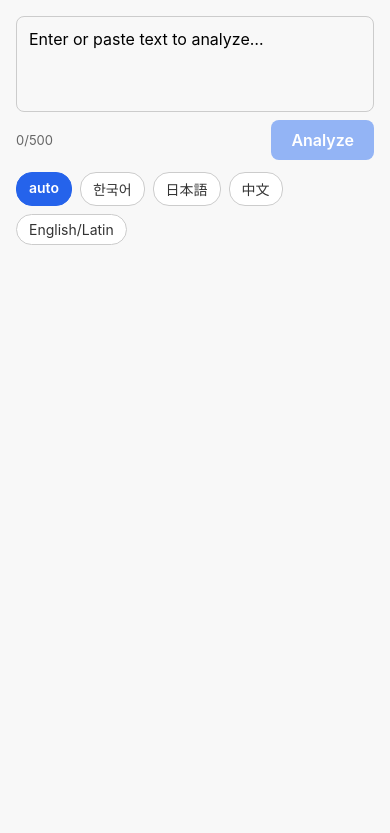
Test: HomeScreen submit flow › replaces the previous result on resubmit (US1-AS4)
The image size is (390, 833).
Expected: the button "Analyze" is shown, x1=271 y1=120 x2=374 y2=160
Type "오늘 날씨가 정말 좋네요" into the text box labelled "text to analyze" at [195, 64], box x1=16 y1=16 x2=374 y2=112
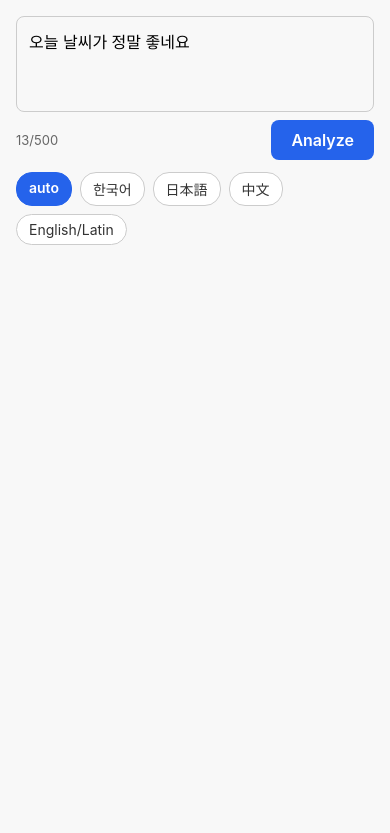
Click the button "Analyze" at [323, 140], box x1=271 y1=120 x2=374 y2=160
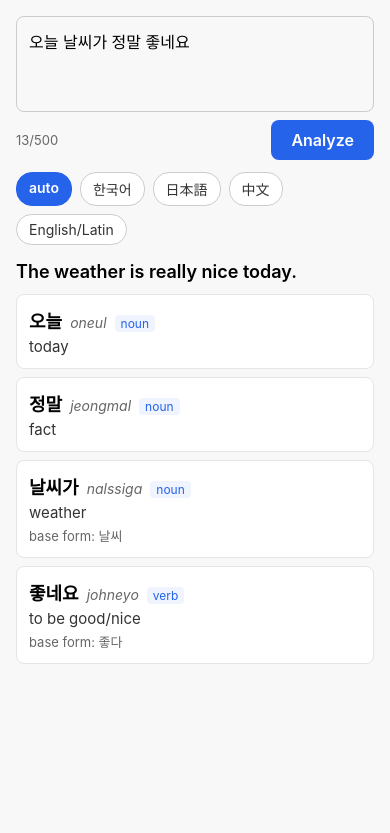
Expected: the heading "The weather is really nice today." is shown, x1=16 y1=261 x2=297 y2=282
Replace the text in the text box named "text to analyze" with "私は毎朝コーヒーを飲みます" at [195, 64], box x1=16 y1=16 x2=374 y2=112
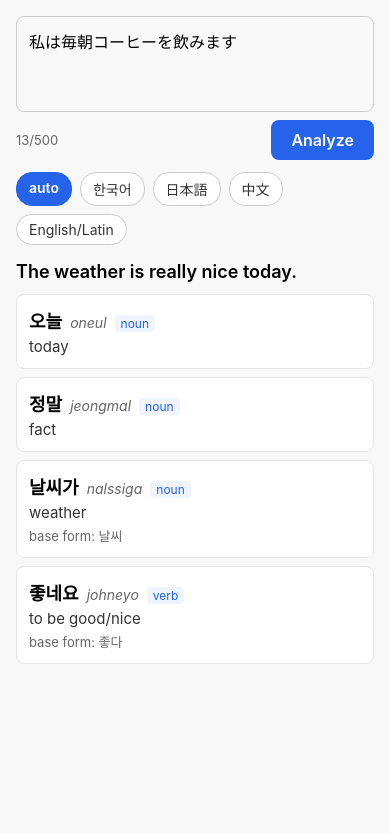
Click the button "Analyze" at [323, 140], box x1=271 y1=120 x2=374 y2=160
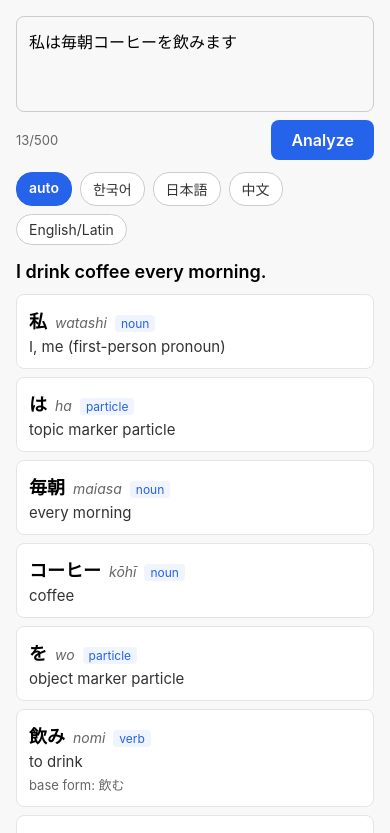
Expected: the heading "I drink coffee every morning." is shown, x1=16 y1=261 x2=267 y2=282
Expected: the heading "The weather is really nice today." is gone
